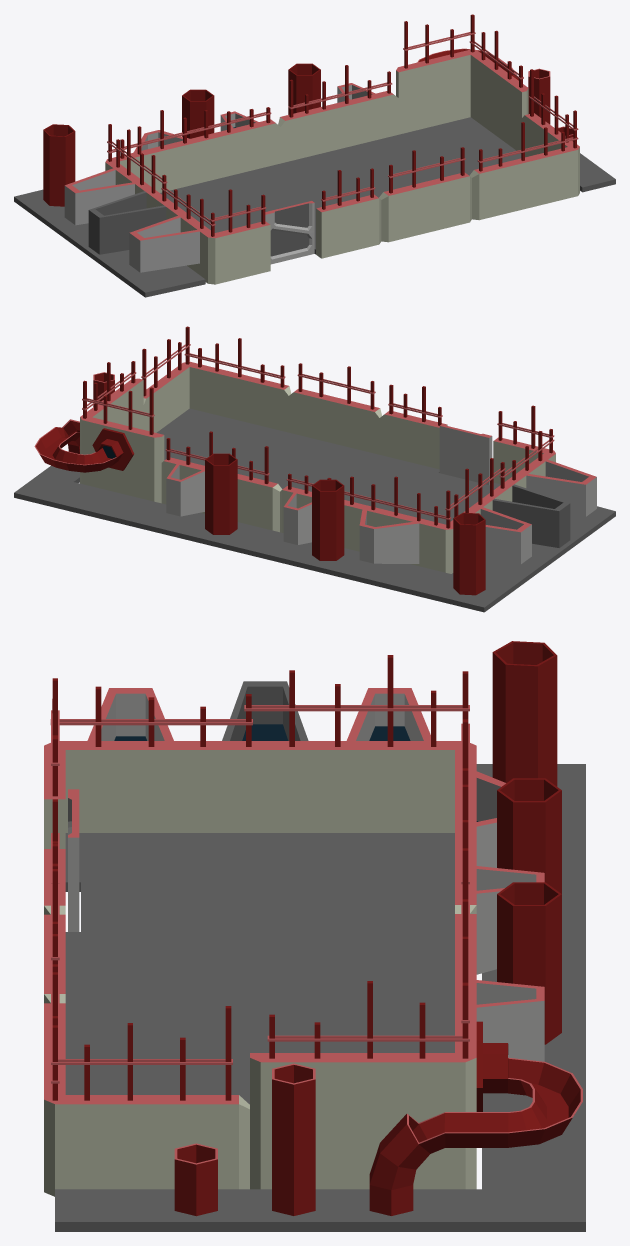
File: Fundations_10X5X5_16_6_2016.fbx
The picture shows the model from 3 angles, top to bottom: view 1: azimuth 30°, elevation 25°; view 2: azimuth 150°, elevation 25°; view 3: azimuth 270°, elevation 25°; orthographic projection. The views are drawn at different scales.
Visible parts, largest first — view 1: Foundations_10X5X5; view 2: Foundations_10X5X5; view 3: Foundations_10X5X5.
Boxes of the visible parts, left/top/right/bottom form: Foundations_10X5X5: left=14, top=14, right=615, bottom=297; Foundations_10X5X5: left=14, top=326, right=615, bottom=612; Foundations_10X5X5: left=44, top=641, right=585, bottom=1231.
Size of the model in its own units: 1000 by 231 by 500.
